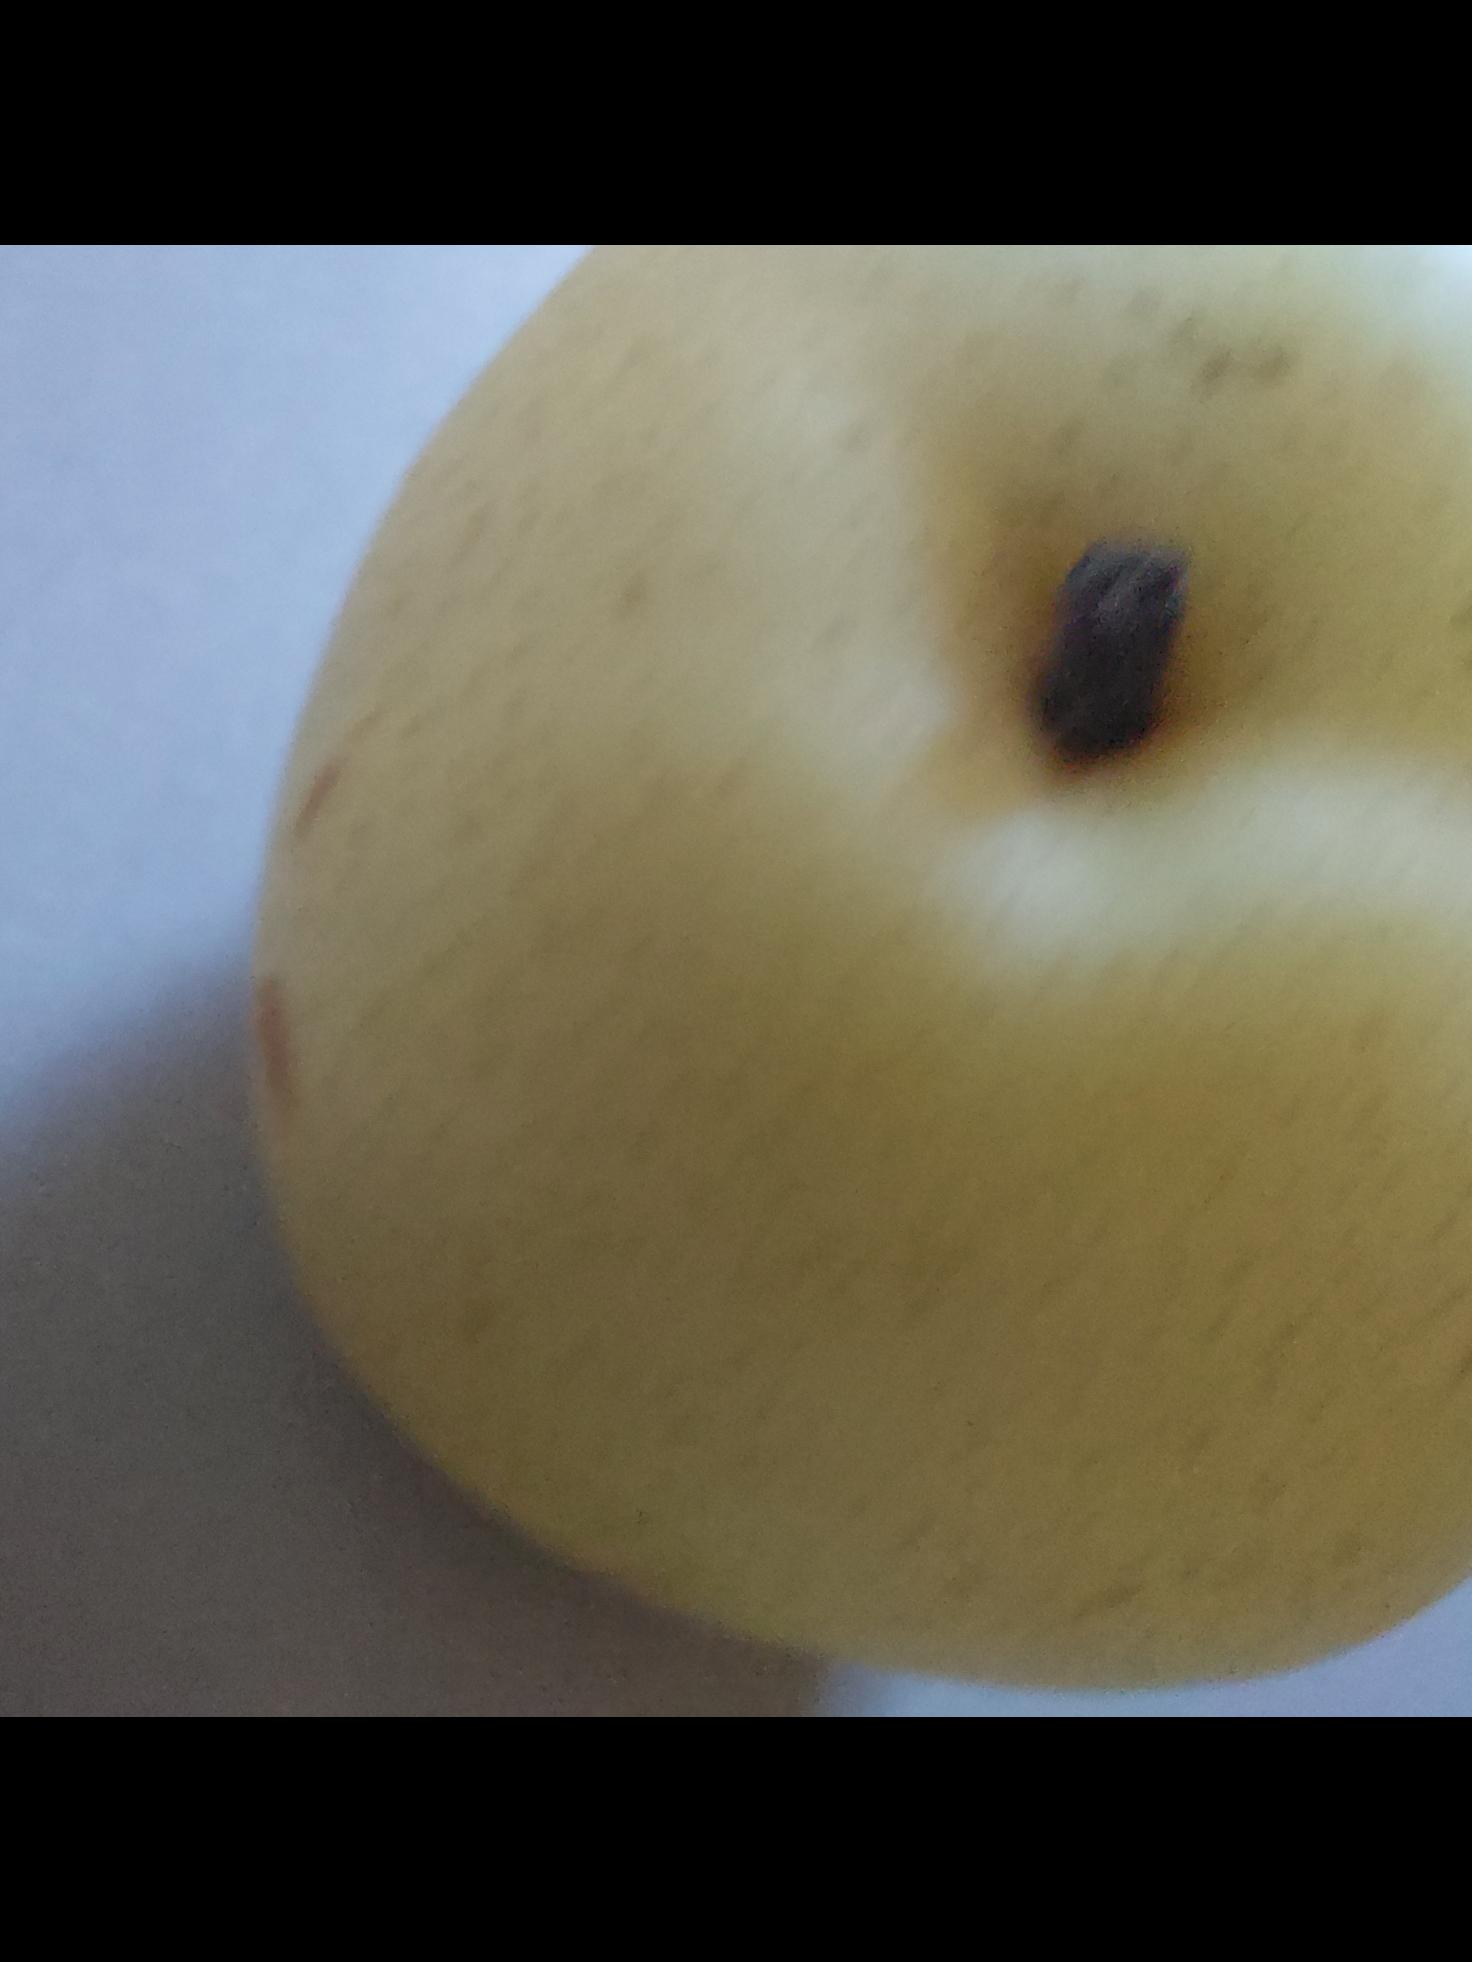Good Pear: (195, 244, 1472, 1681)
